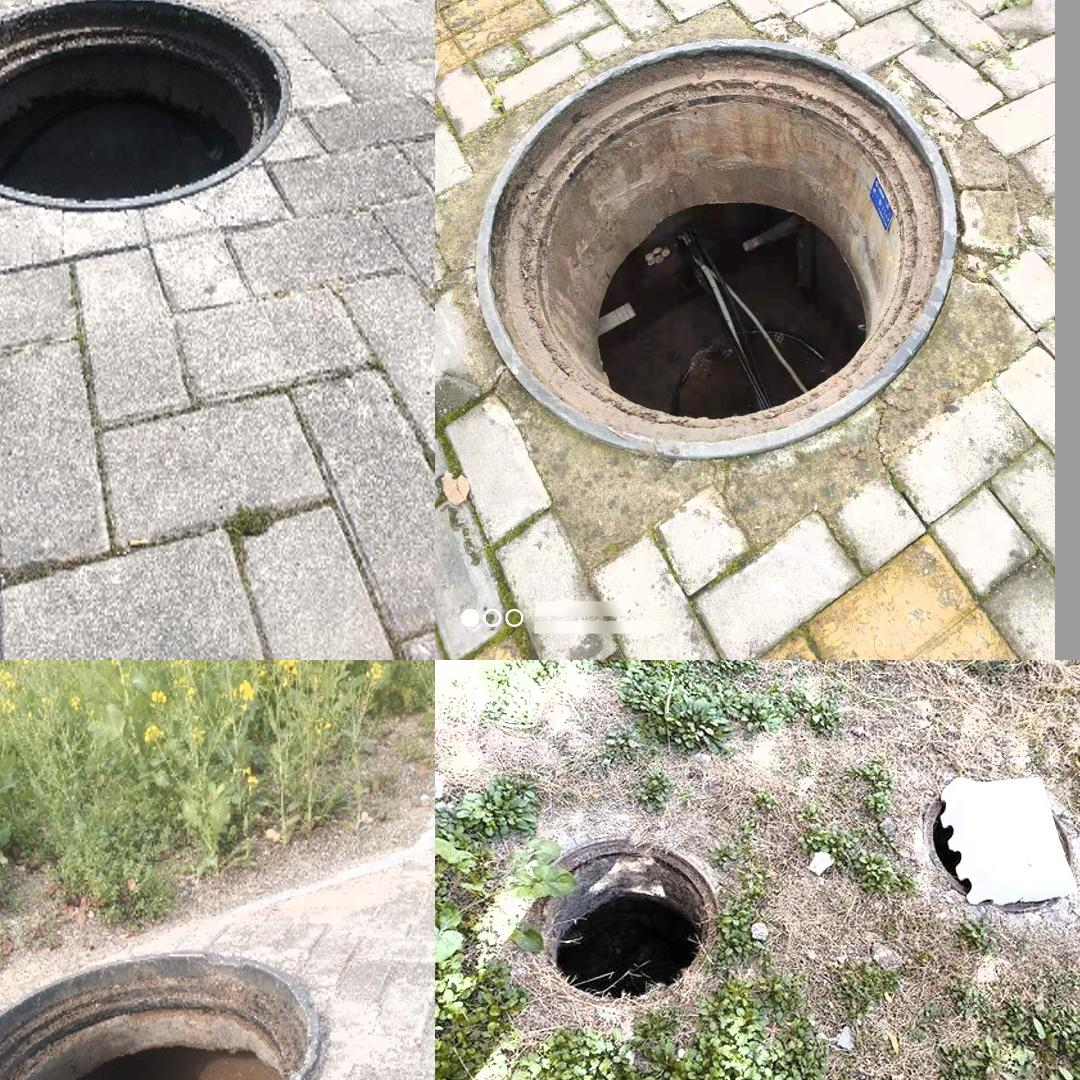lose: (471, 36, 959, 464), (0, 0, 295, 234), (0, 918, 370, 1080), (492, 821, 734, 1033)
